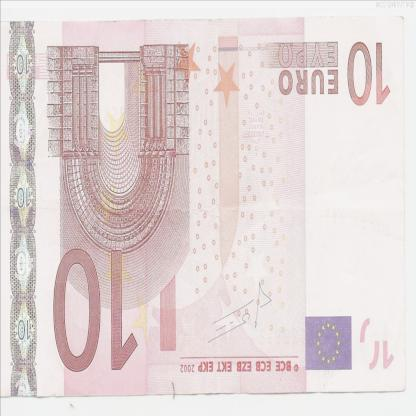euro_banknote: (3, 19, 407, 396)
